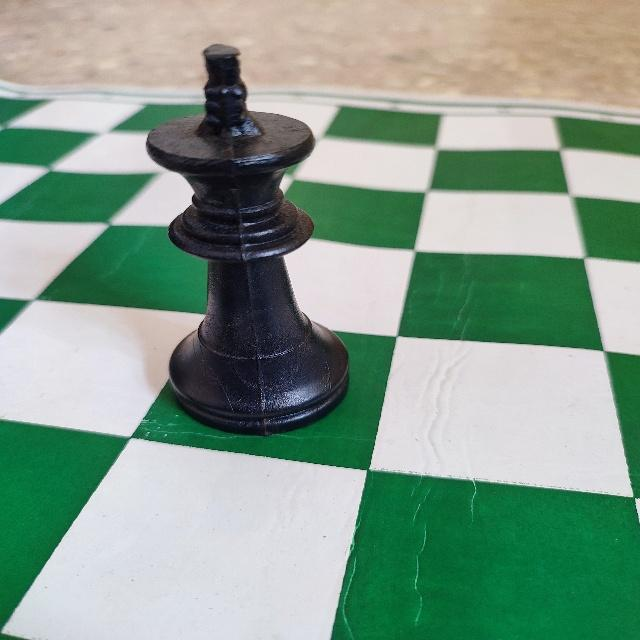King: (138, 39, 356, 440)
